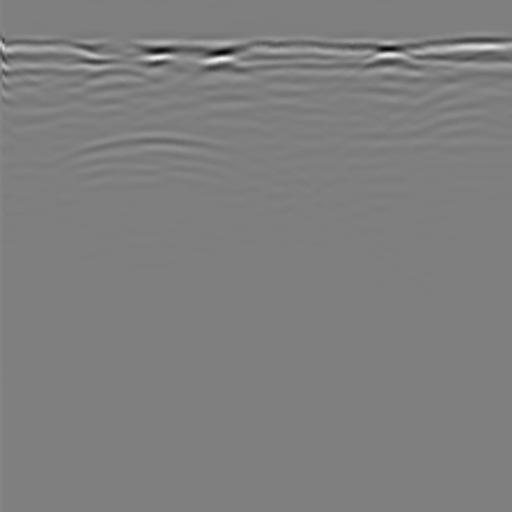hyperbola: (30, 115, 290, 206)
